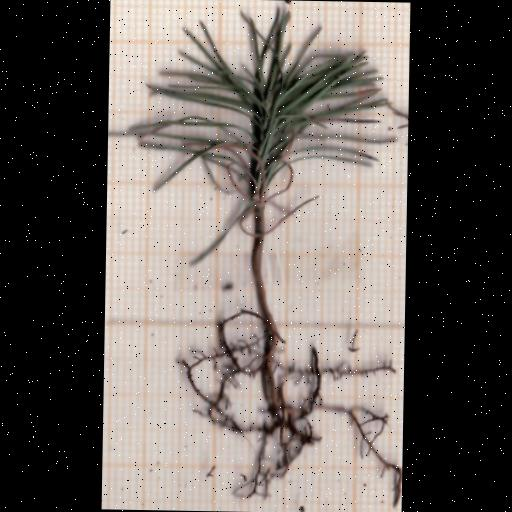flowerCedr: (128, 9, 399, 262)
rootCedr: (182, 311, 399, 498)
stemCedr: (251, 211, 274, 323)
